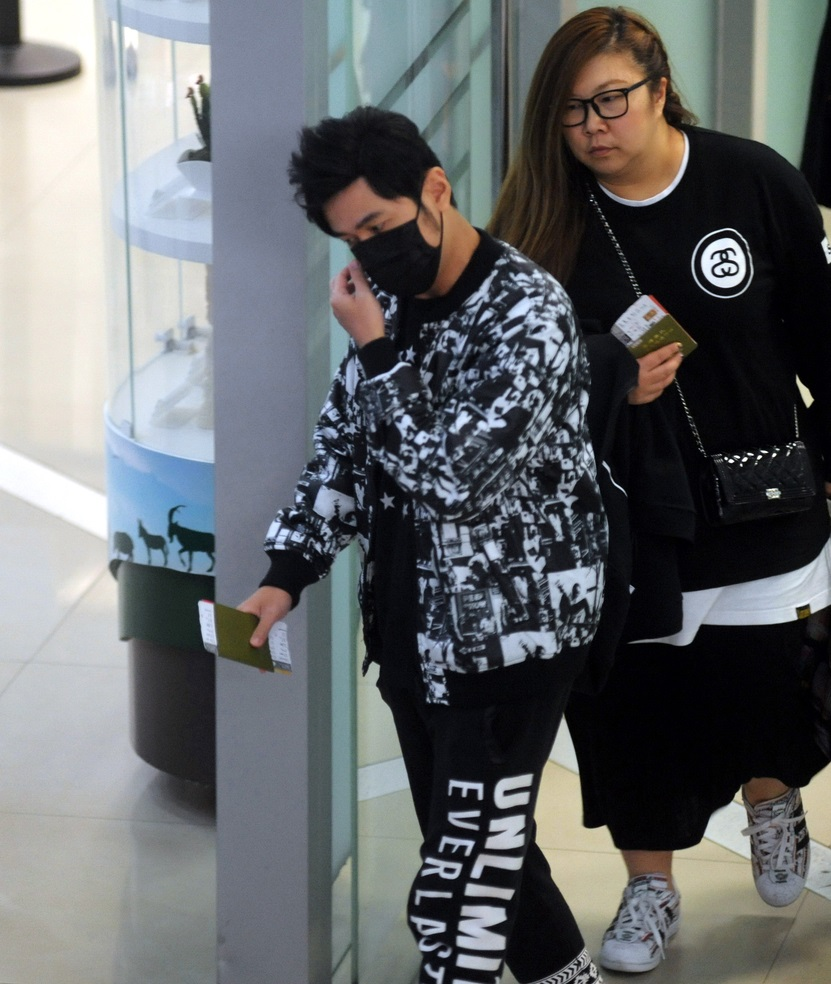face: (560, 48, 651, 174)
face_mask: (323, 176, 428, 298)
